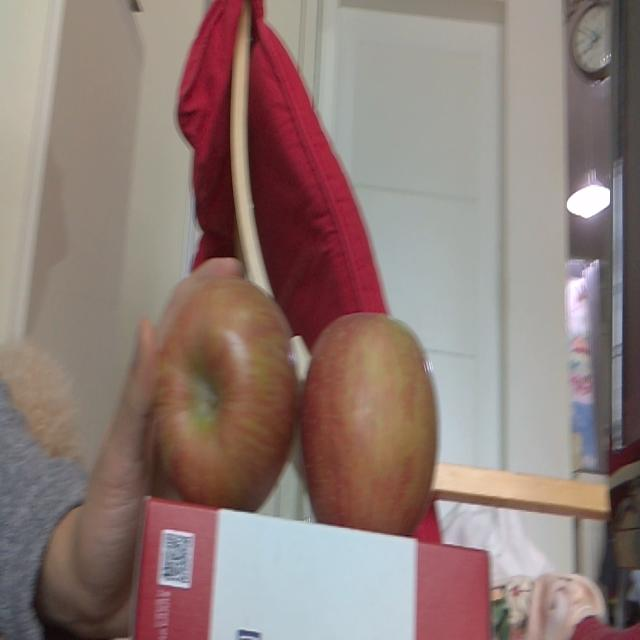apple: (151, 281, 296, 493), (301, 311, 437, 523)
